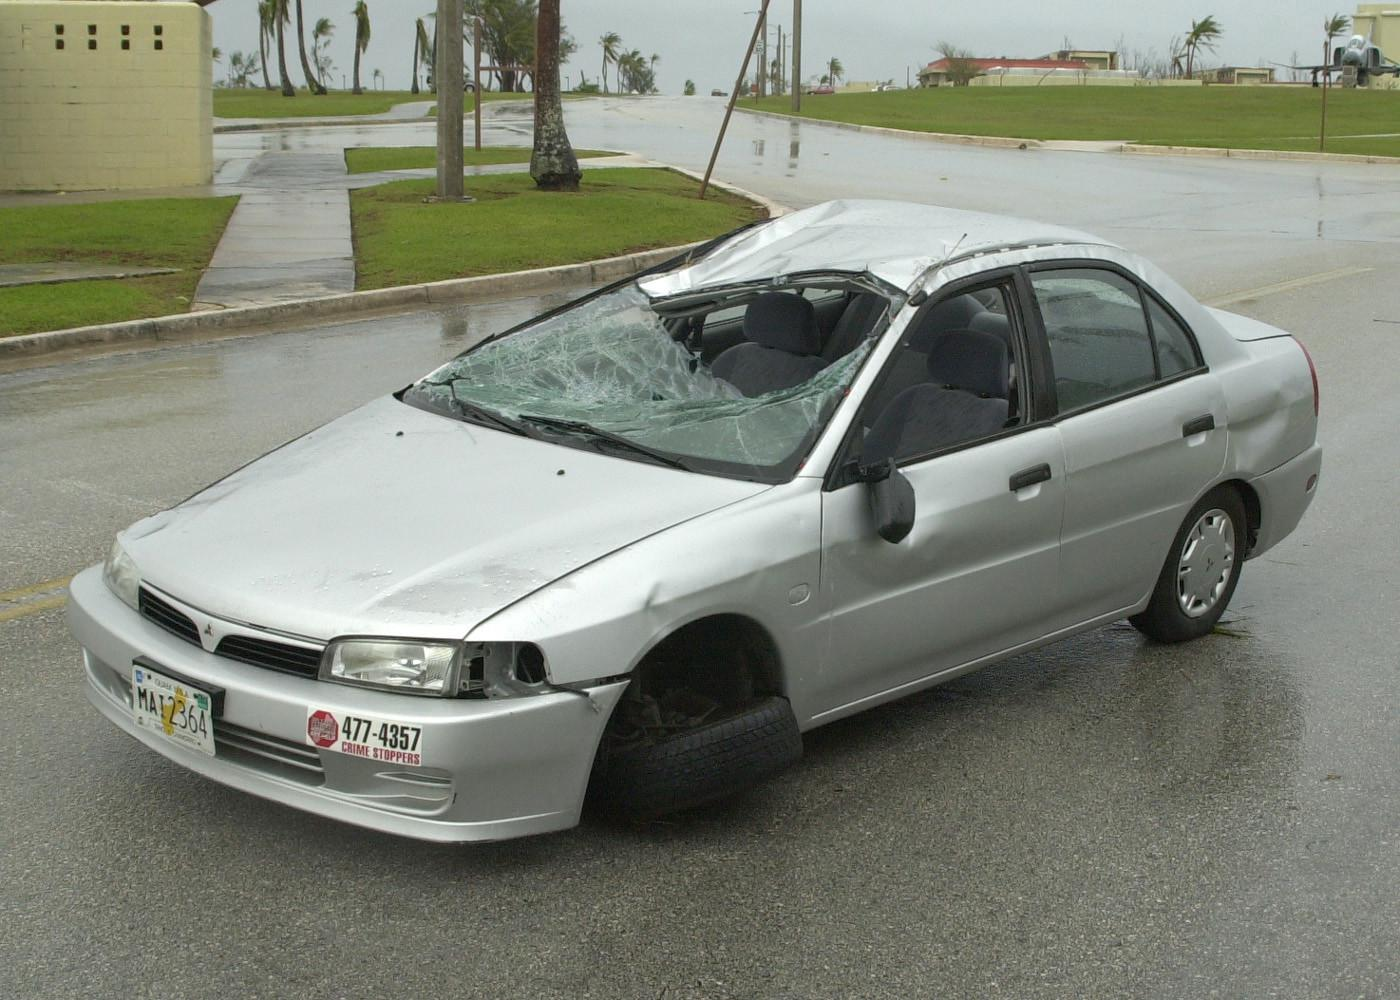Front-Windscreen-Damage: (545, 282, 843, 459)
doorouter-dent: (821, 474, 1056, 670)
fender-dent: (564, 551, 818, 695)
quaterpanel-dent: (1209, 340, 1324, 496)
roof-dent: (674, 186, 1102, 290)
